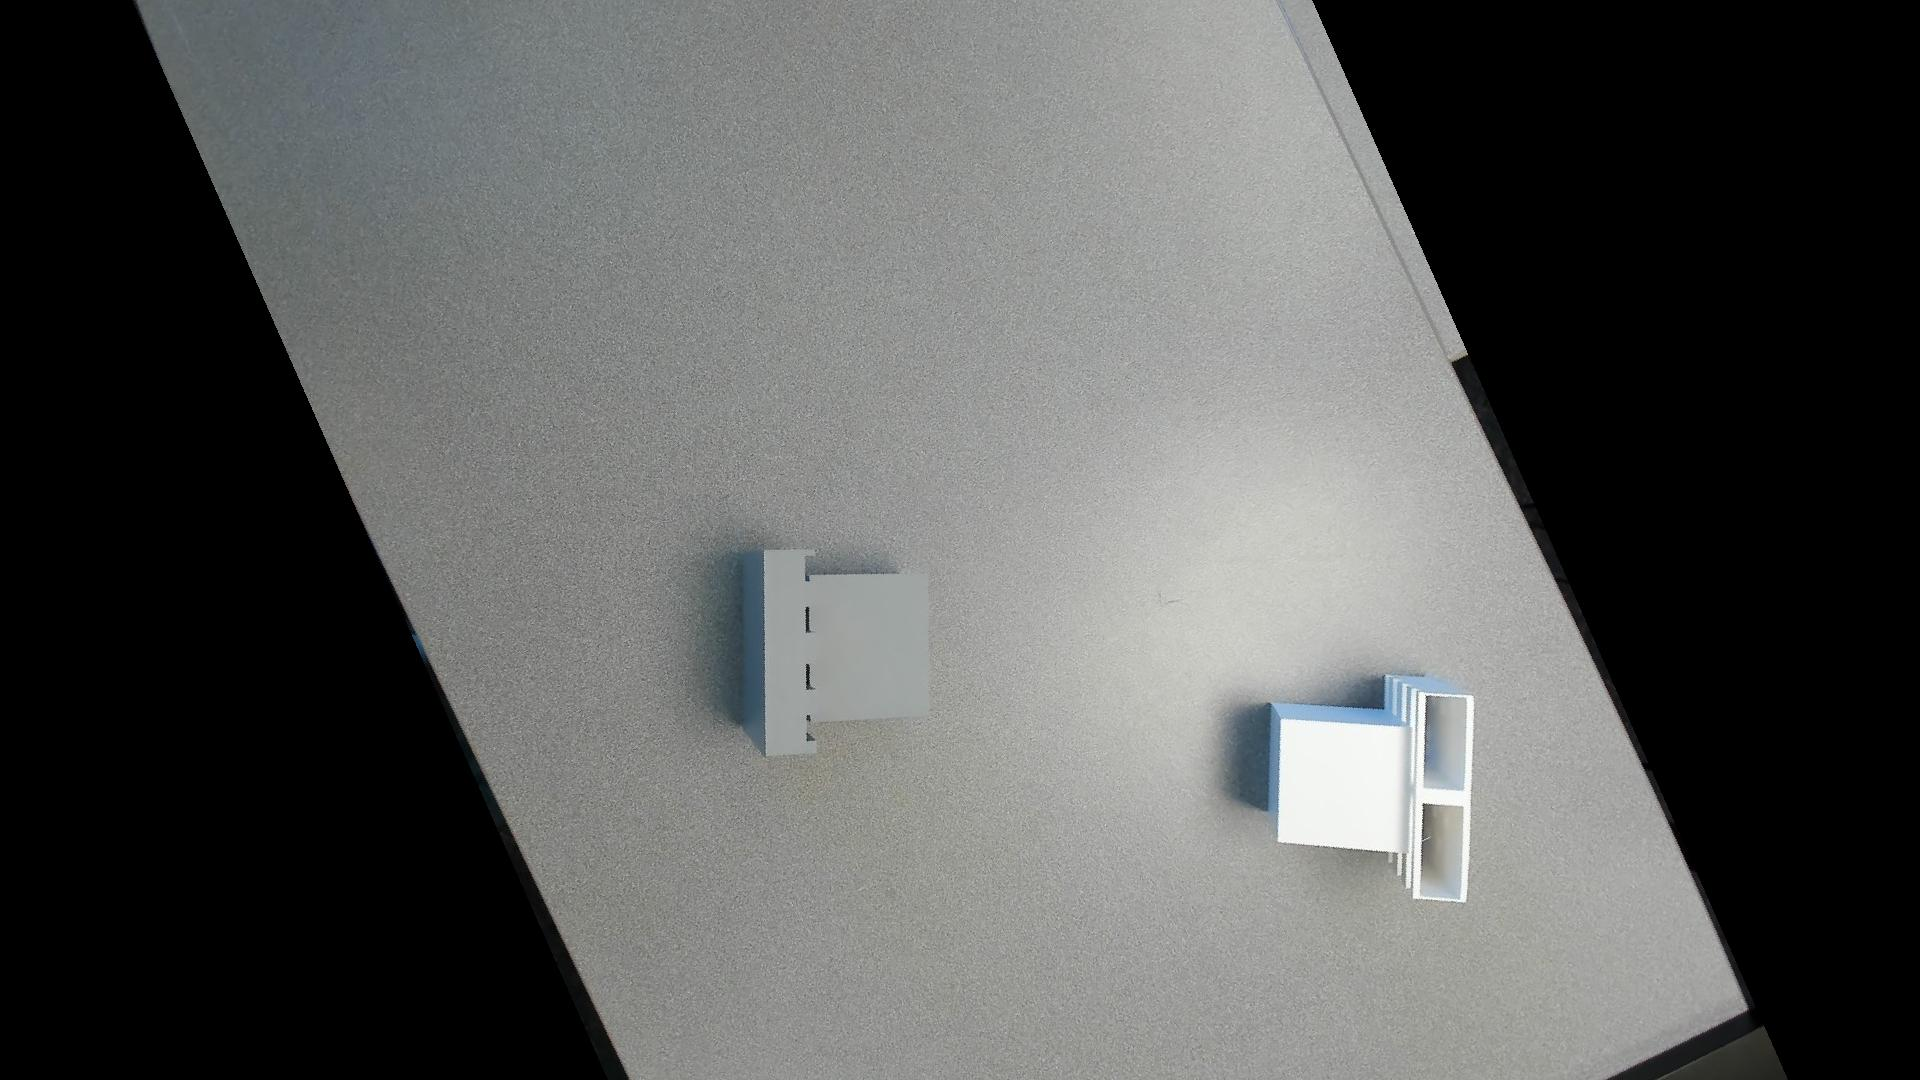grey pallet: (731, 522, 942, 767)
white pallet: (1261, 665, 1498, 928)
